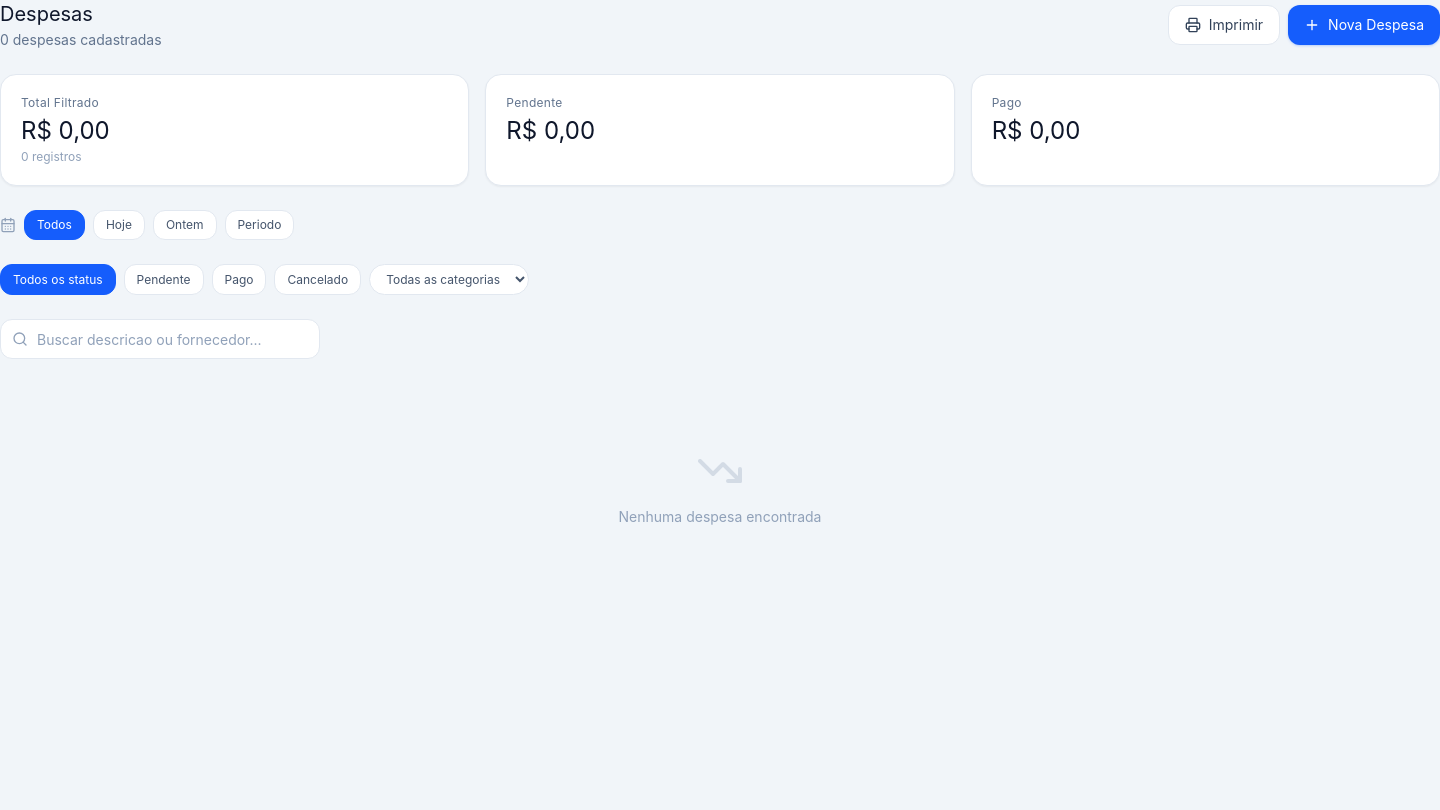
Test: Despesas (expanded) › opens new despesa modal
The image size is (1440, 810).
Click the button "Nova Despesa" at (1364, 25), box 1288,5 -> 1439,45
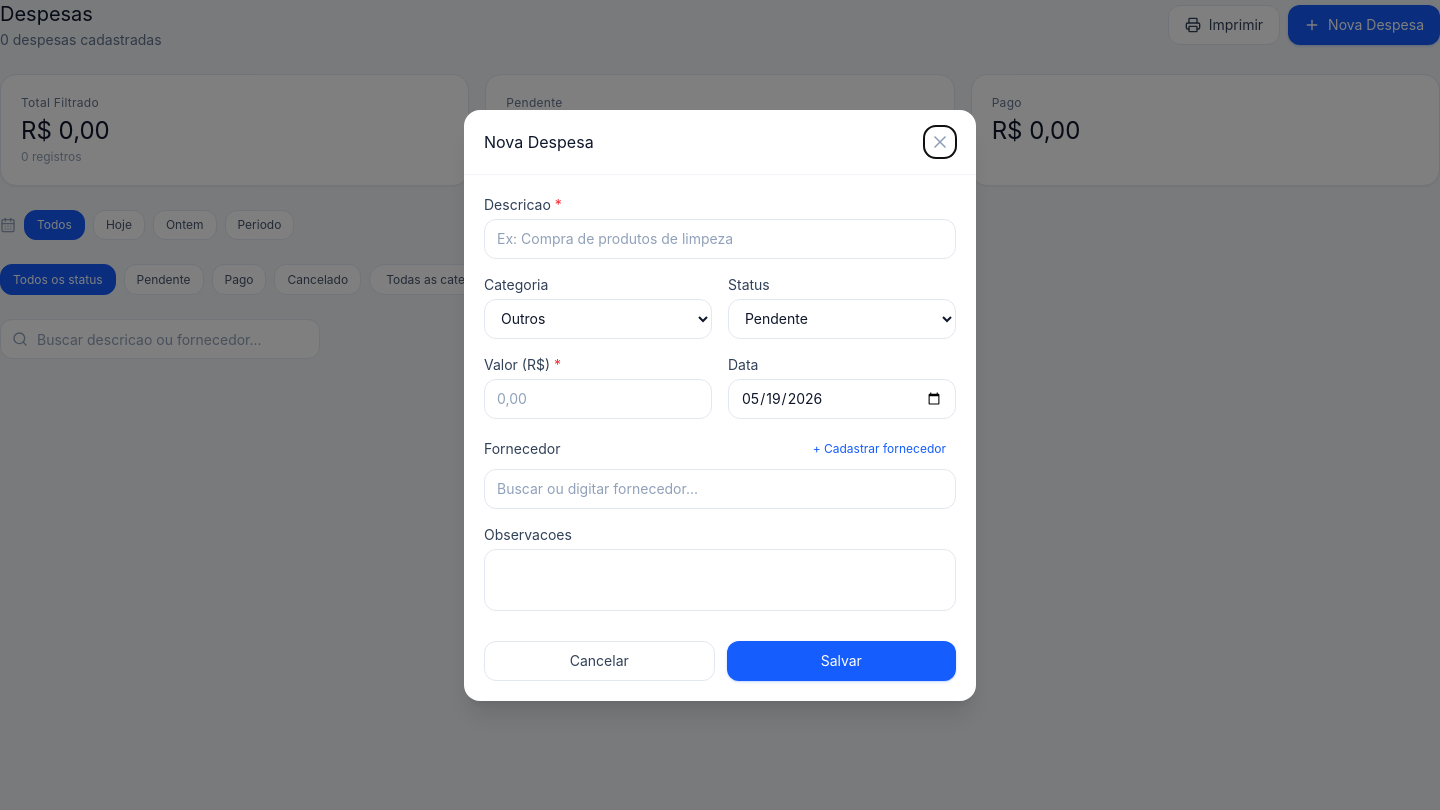
Check: the button "Salvar" is shown, box 726,640 -> 956,680
